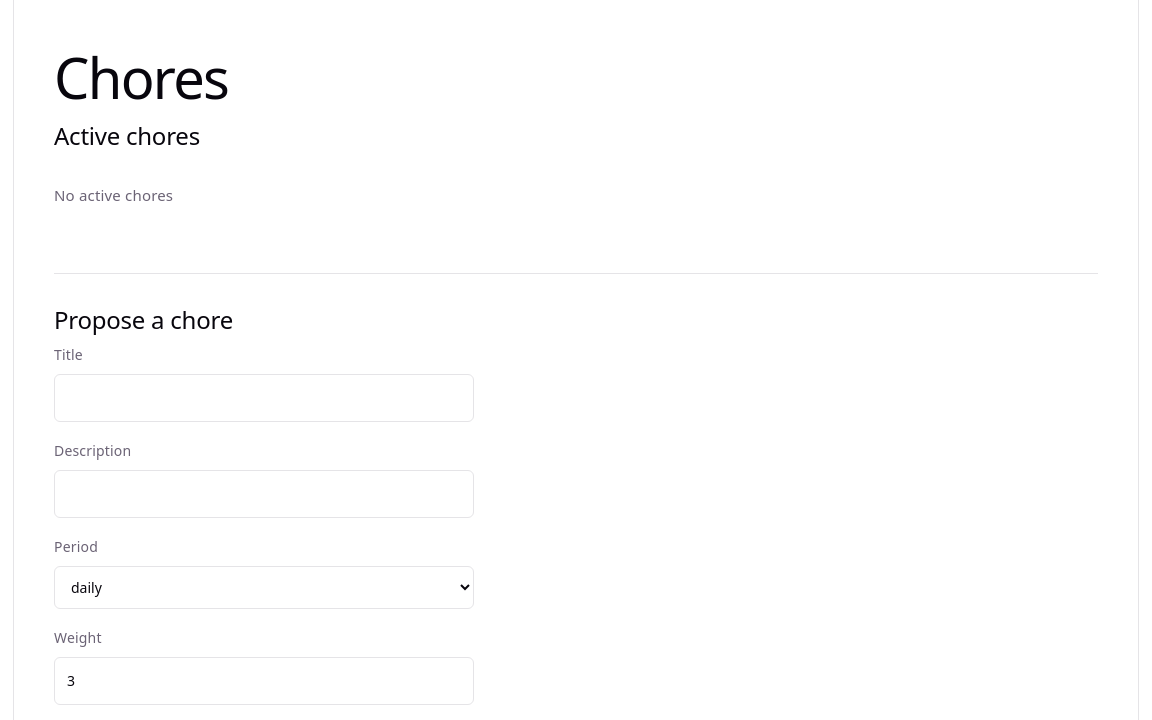
ChoresPage › shows a validation error for weight out of range
Expected: the text "No active chores" is shown, [54,185,173,205]
Type "Wash dishes" into the field labelled "Title" at (264, 398), box [54,374,474,422]
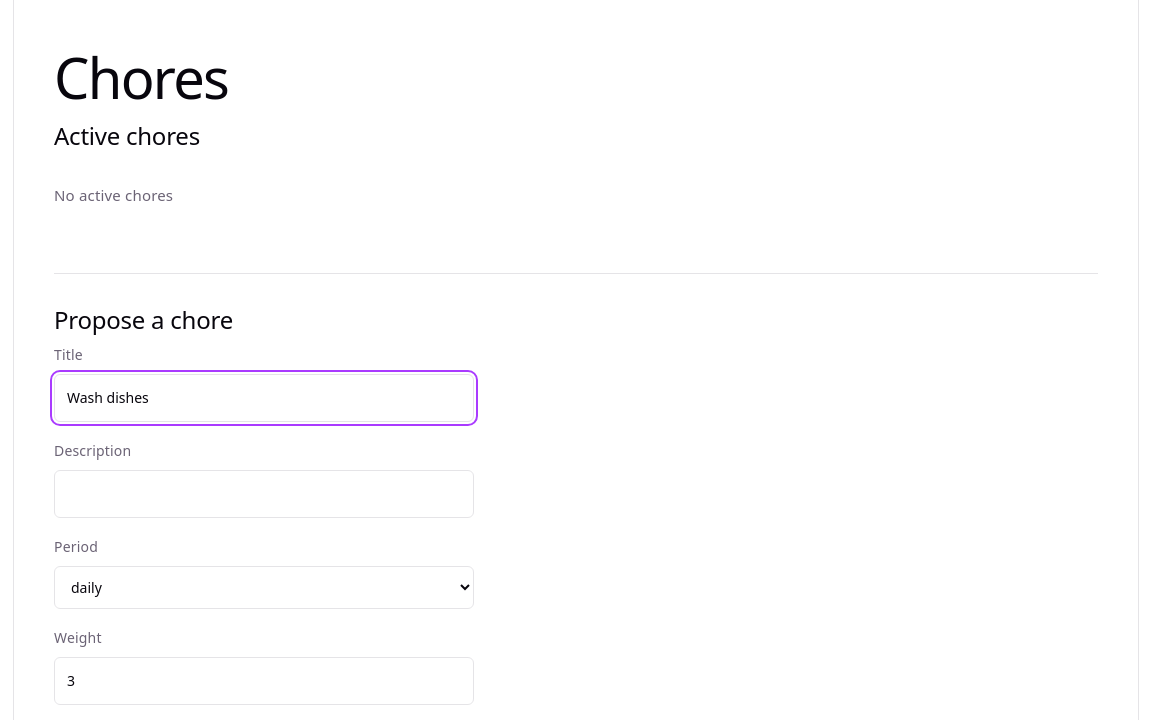
Replace the text in the number field labelled "Weight" with "15" at (264, 681), box [54,657,474,706]
(page scrolled)
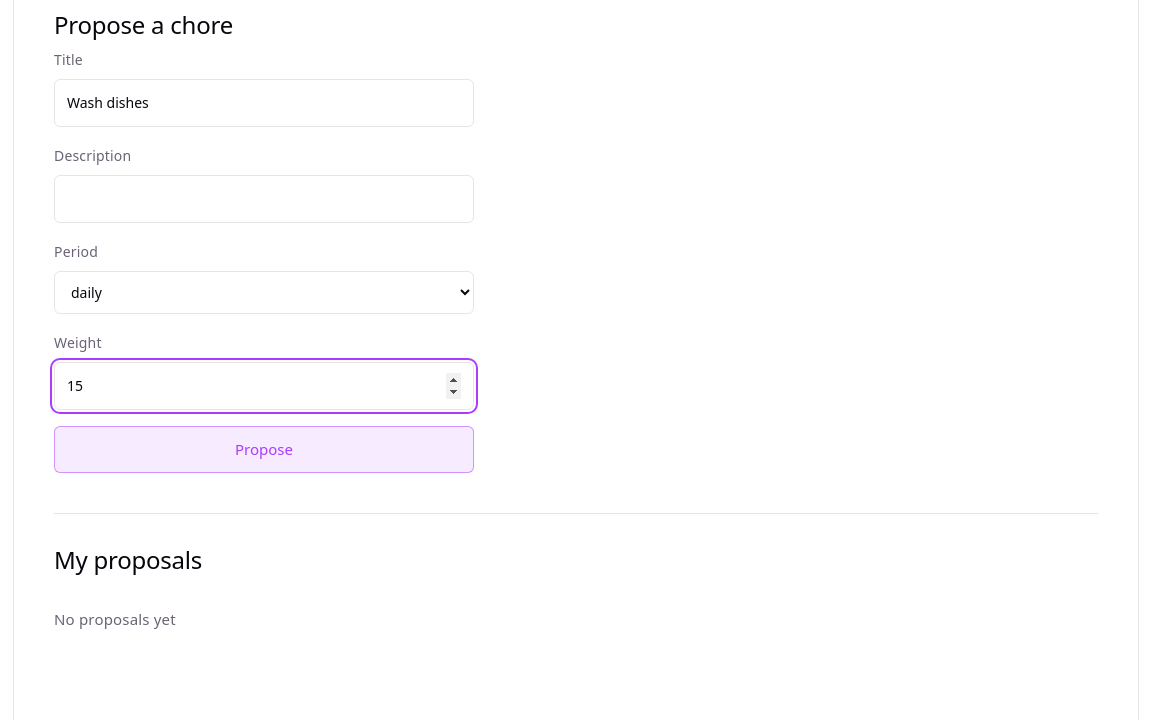
Click the button "Propose" at (264, 450), box [54,426,474,473]
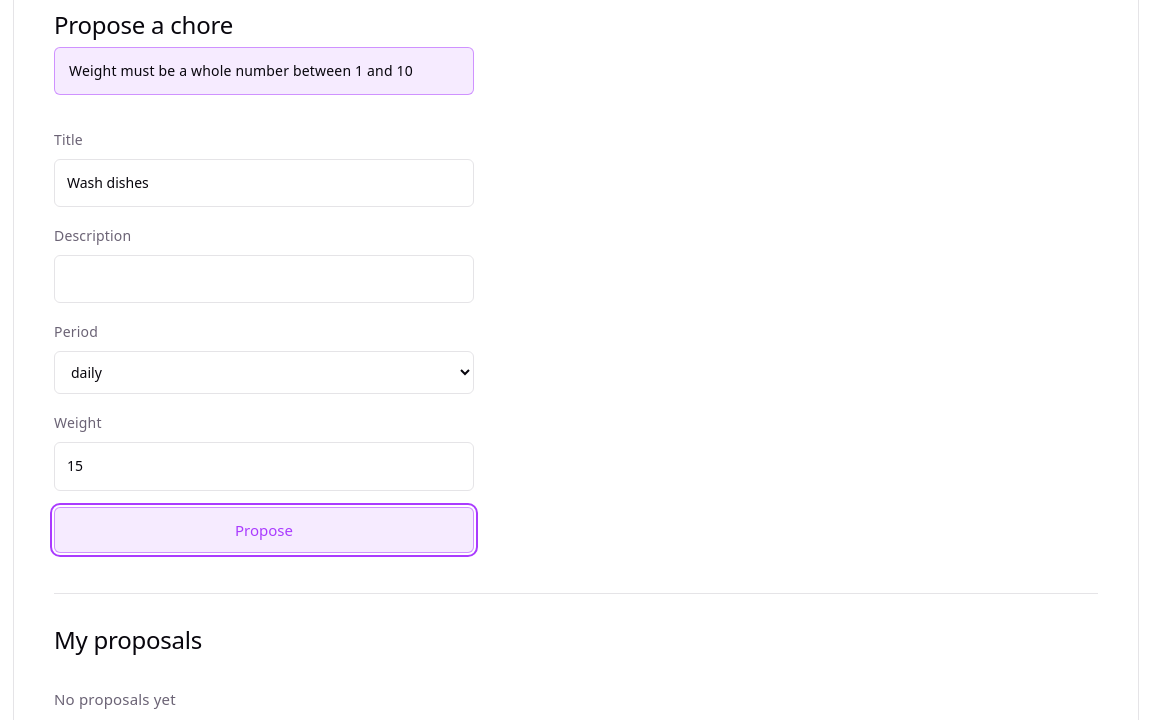
Now the text "Weight must be a whole number between 1 and 10" is shown, box [54,47,474,95]
